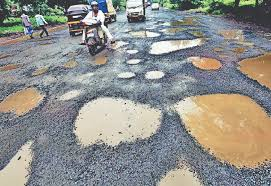potholes: (120, 57, 169, 87)
